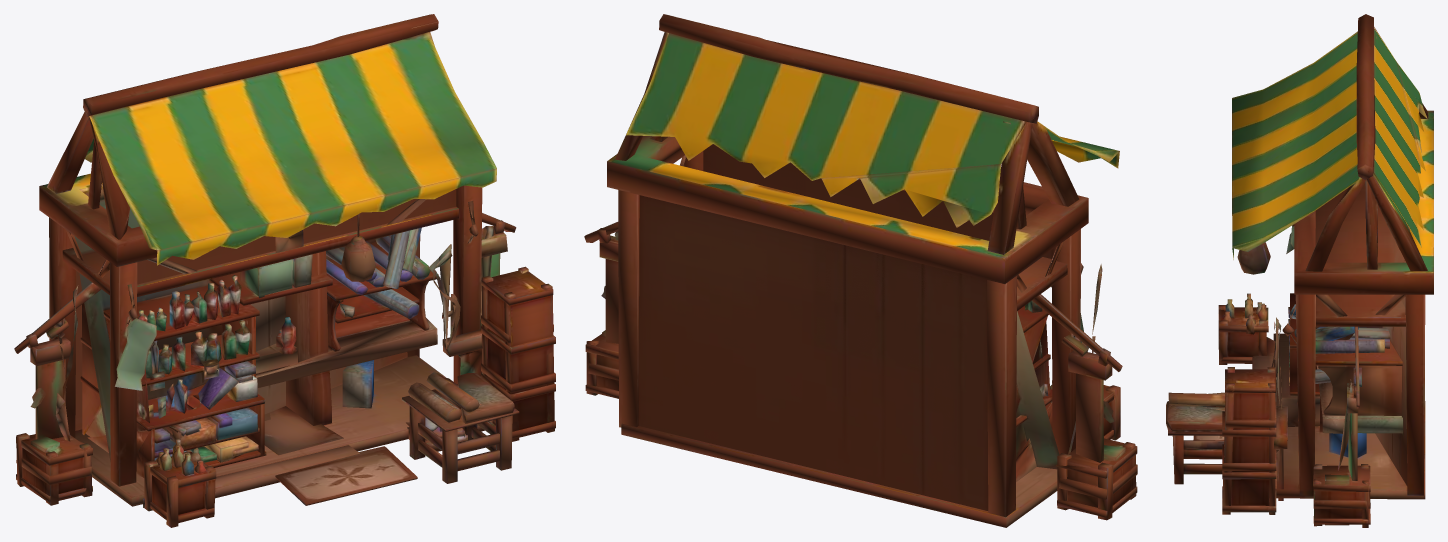
The model's file is merchantStall.glb.
3 views of the same model, side by side, from view 1: azimuth 30°, elevation 25°; view 2: azimuth 150°, elevation 25°; view 3: azimuth 270°, elevation 25° (orthographic). The views are drawn at different scales.
Bounding box in the file's own units: 0.9575 × 0.6807 × 0.4941.
1 material, 1 textured.
